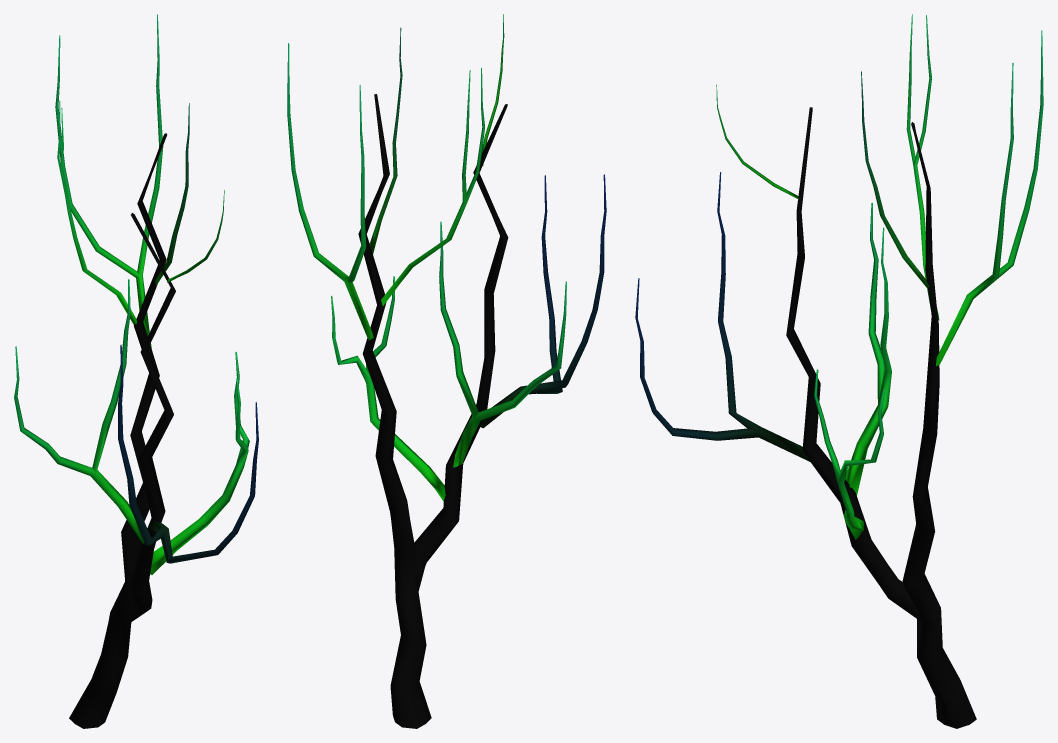
Rendered from Tree14_dry.fbx.
3 views of the same model, side by side, from view 1: azimuth 30°, elevation 25°; view 2: azimuth 150°, elevation 25°; view 3: azimuth 270°, elevation 25° (orthographic). The views are drawn at different scales.
Visible parts, largest first — view 1: Tree_0; view 2: Tree_0; view 3: Tree_0.
Part boxes in pixels (bbox=[...]): Tree_0: bbox=[14, 14, 258, 728]; Tree_0: bbox=[287, 14, 606, 728]; Tree_0: bbox=[635, 14, 1043, 728].
Bounding box in the file's own units: 115 × 320 × 168.
